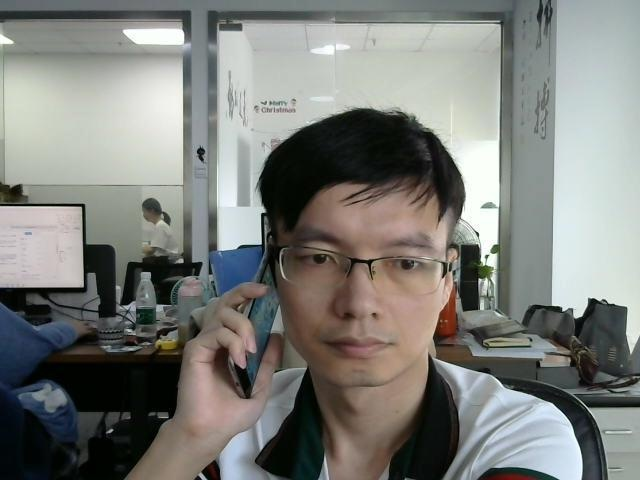hand: (179, 280, 287, 418)
